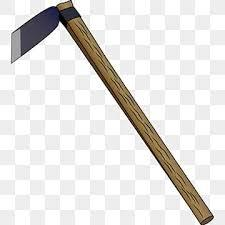HOUE: (4, 0, 225, 225)
